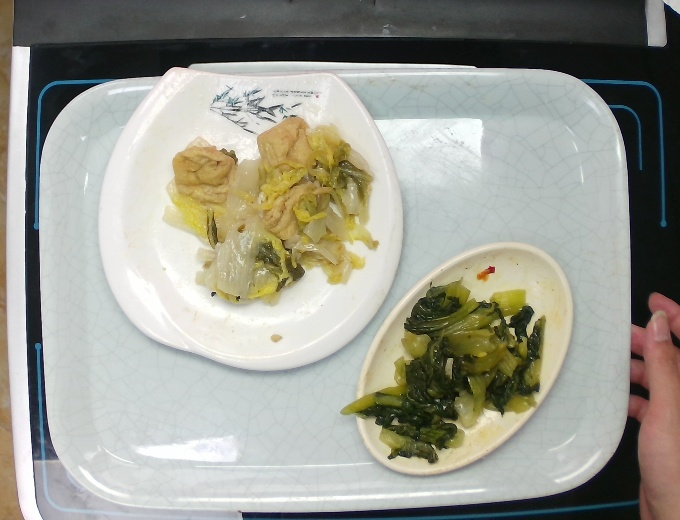JYsf-Mian_Pan: (95, 59, 410, 373)
JYsf-Tuo_Yuan_Wan: (351, 231, 579, 479)
